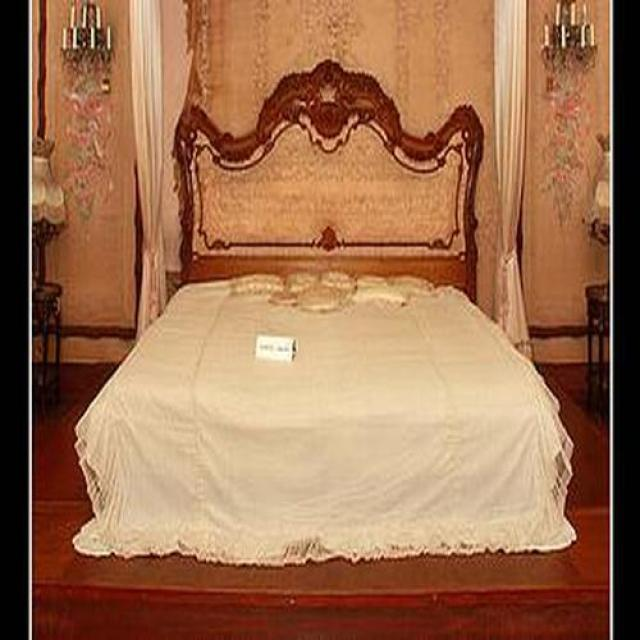bed: (72, 49, 579, 570)
